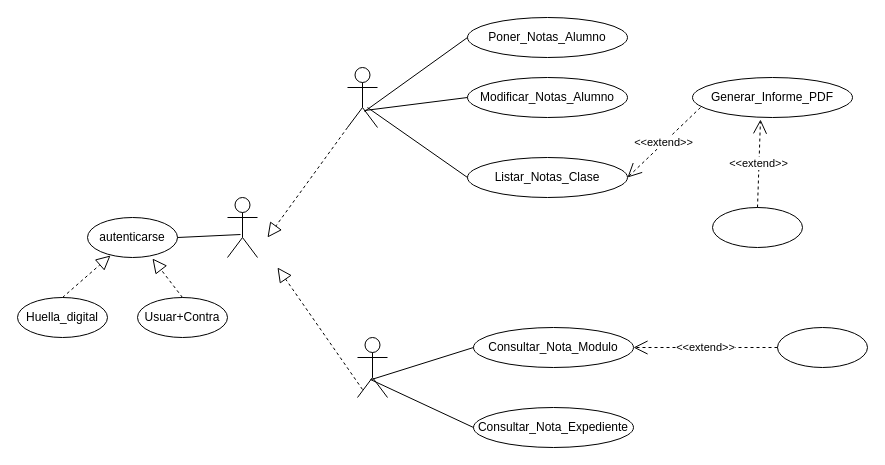
Some shapes in this 885 by 465 pixel diagram are drawn without their labels. The shapes that lost their labels are listed below. From the top down, each one's centre as x and y in pixels, then its label:
At point (362, 97): "Profesores".
At point (242, 227): "Personas".
At point (757, 227): "Descargarlo".
At point (372, 367): "Alumnos".
At point (822, 347): "Aceptar_Nota".
